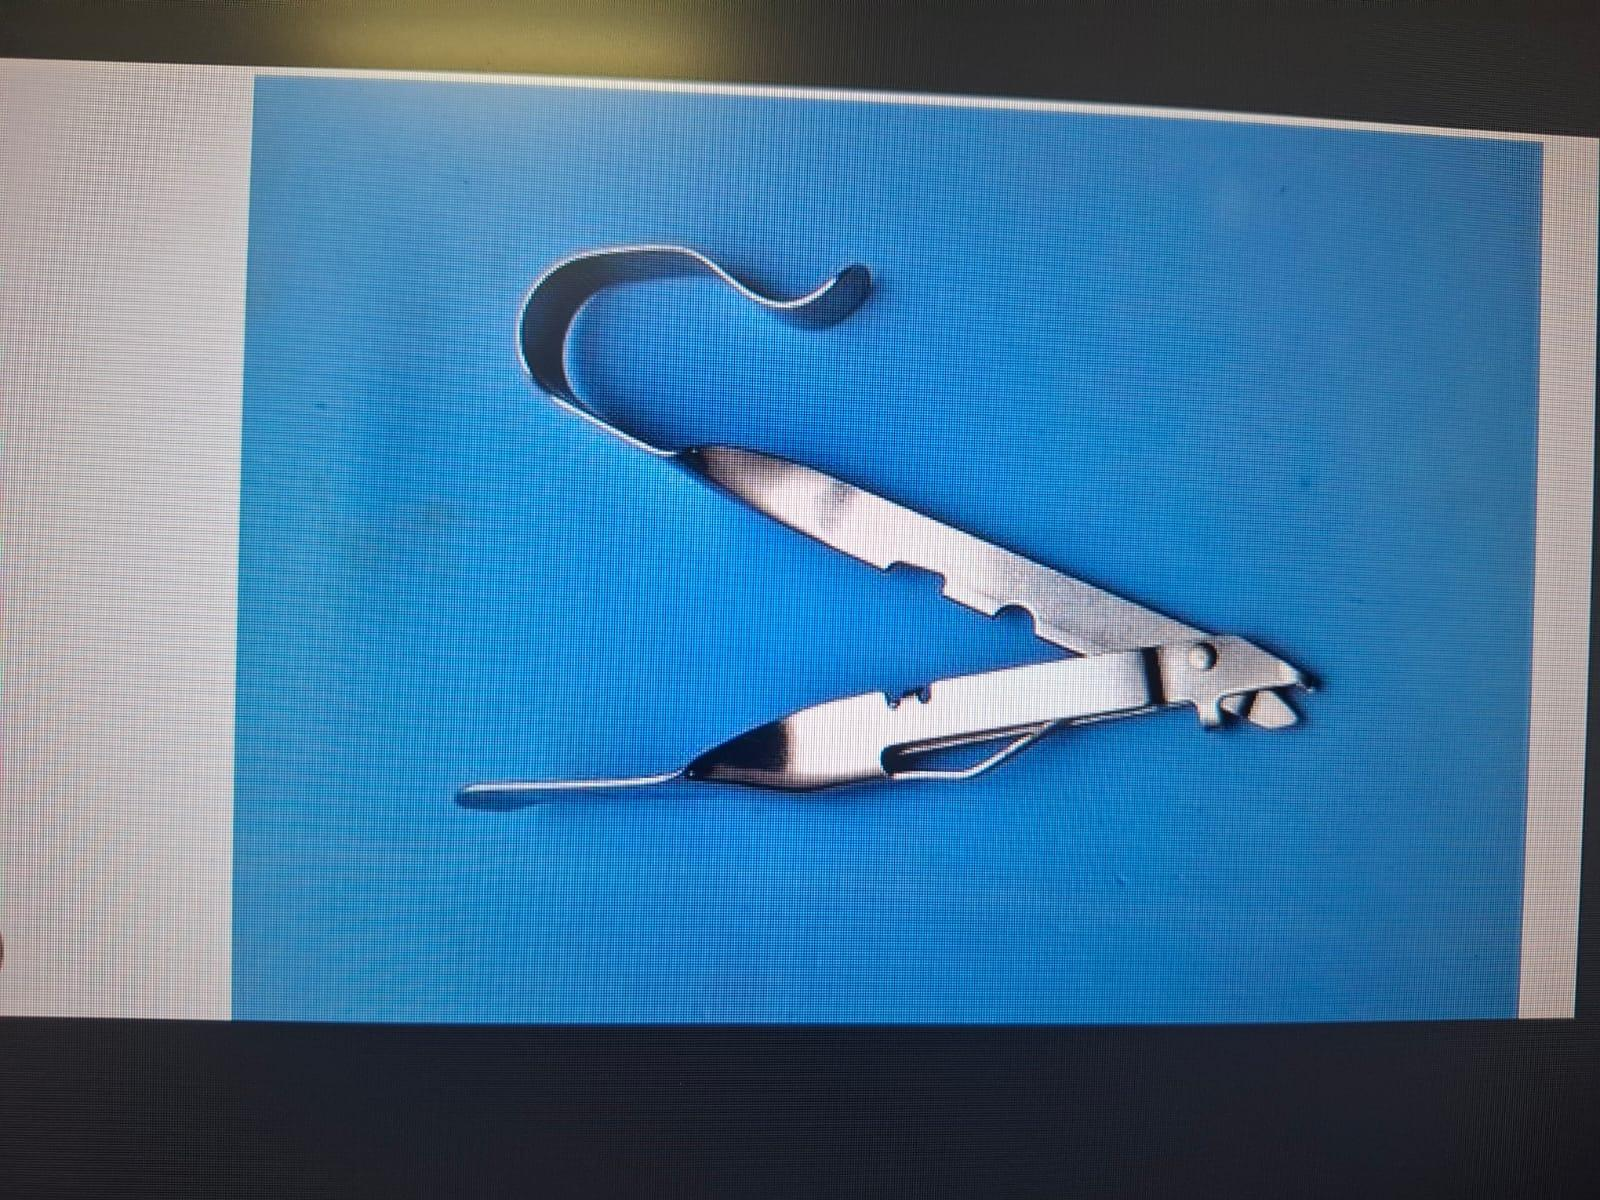Stapler Remover: (448, 230, 1340, 852)
